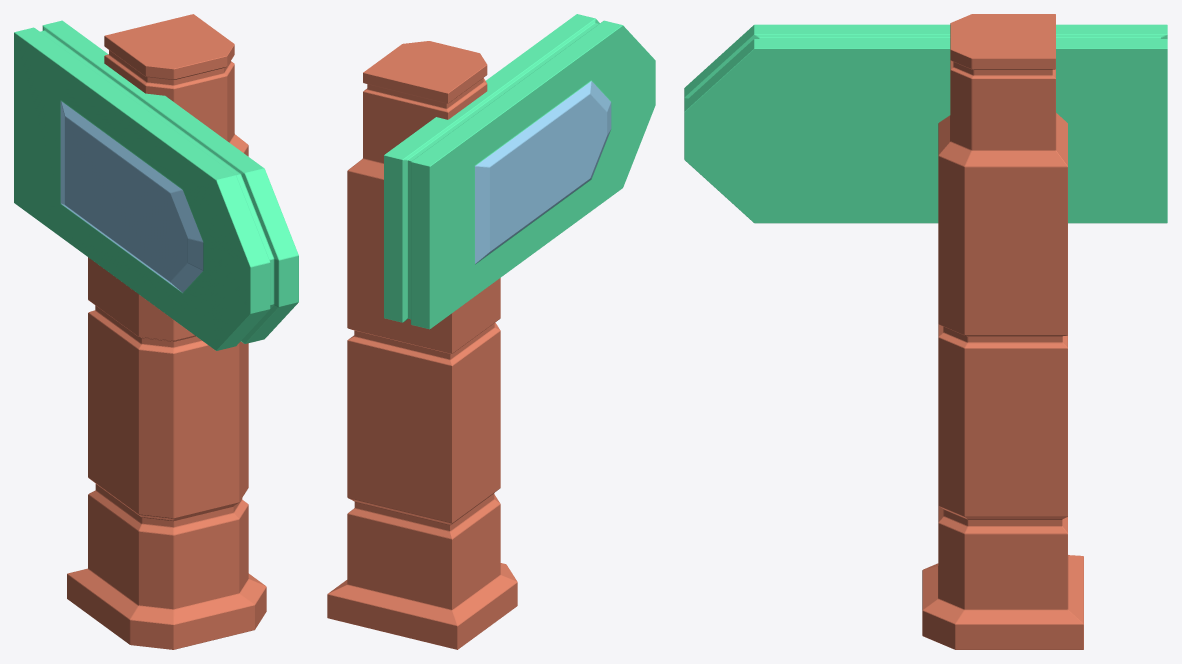
Rendered from Sign 1.fbx.
3 renders of one model, left to right at view 1: azimuth 30°, elevation 25°; view 2: azimuth 150°, elevation 25°; view 3: azimuth 270°, elevation 25°, orthographic. The views are drawn at different scales.
Parts seen in each view (by area): view 1: Sign 1; view 2: Sign 1; view 3: Sign 1.
Boxes of the visible parts, x1,y1,x2,y2 form: Sign 1: (14,14,298,649); Sign 1: (327,14,655,649); Sign 1: (684,14,1167,649).
Size of the model in its own units: 103 by 363 by 274.
